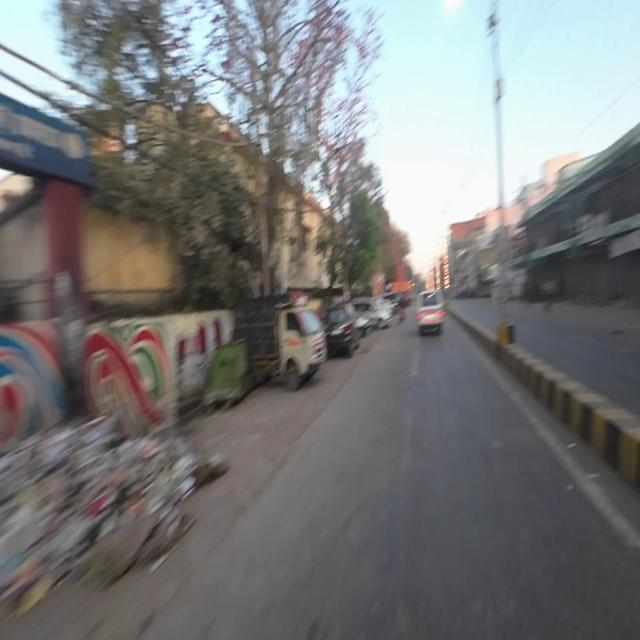Garbage: (2, 432, 182, 598)
